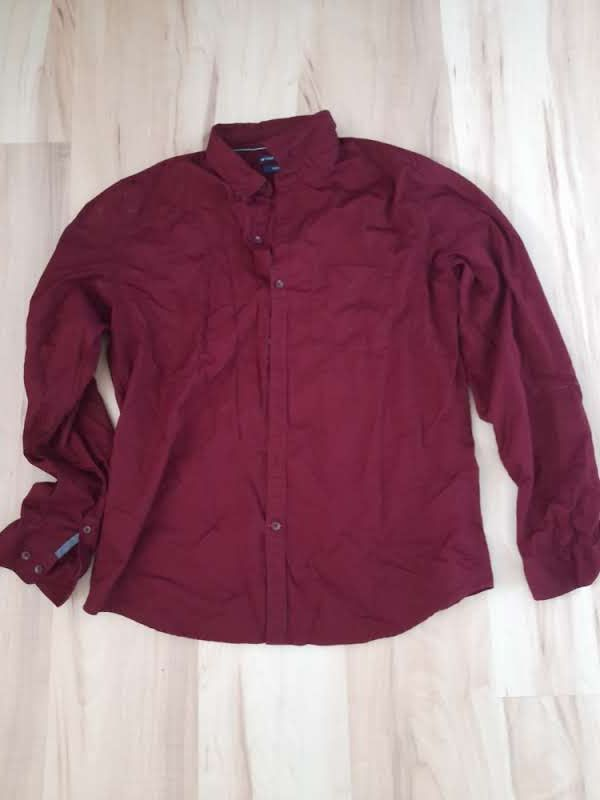clothes: (12, 87, 599, 654)
